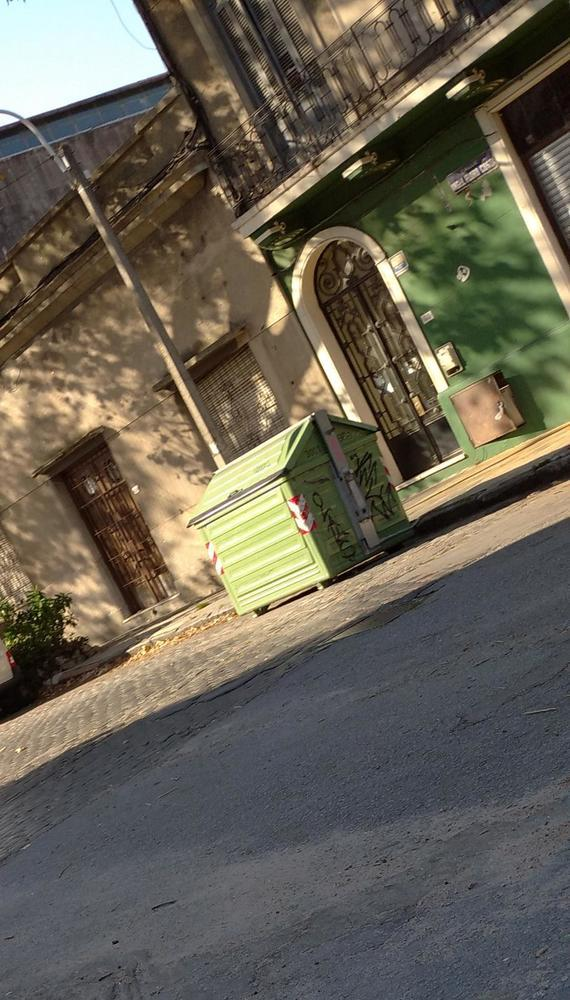Trash: (198, 410, 420, 616)
